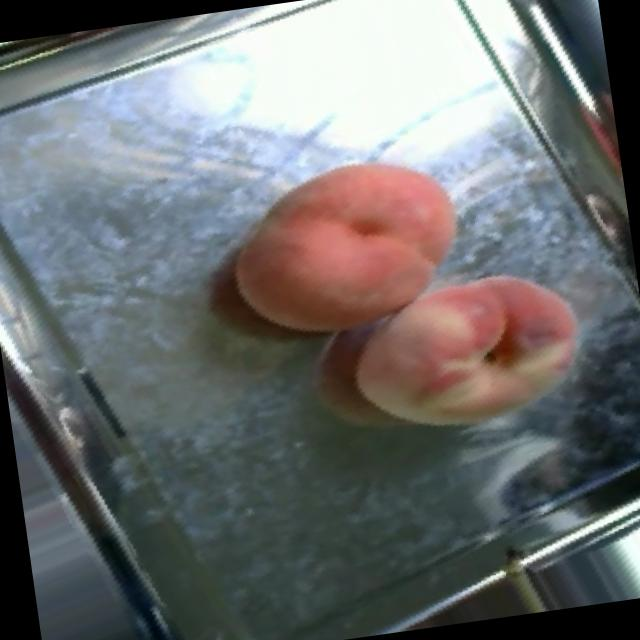Fruit: (197, 116, 500, 382), (314, 224, 617, 476)
